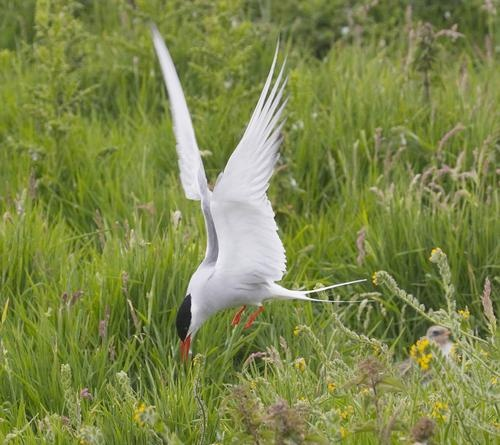bird: (151, 16, 366, 363)
